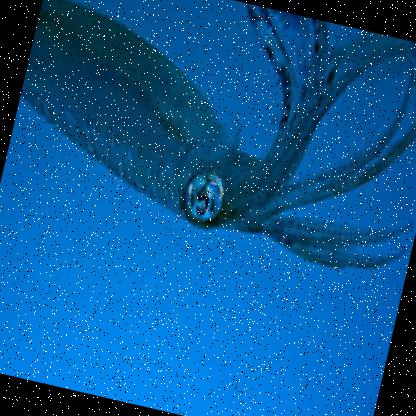colossal_squid: (0, 0, 415, 318)
